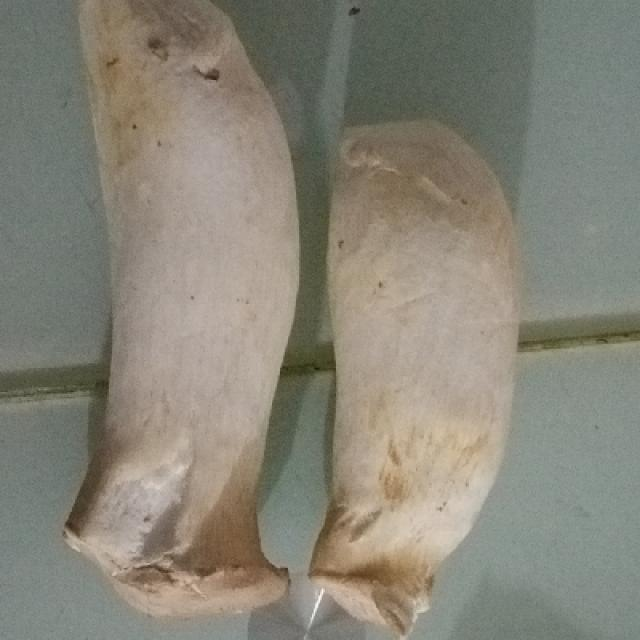Pleurotus eryngii: (60, 0, 302, 614), (306, 117, 520, 637)
